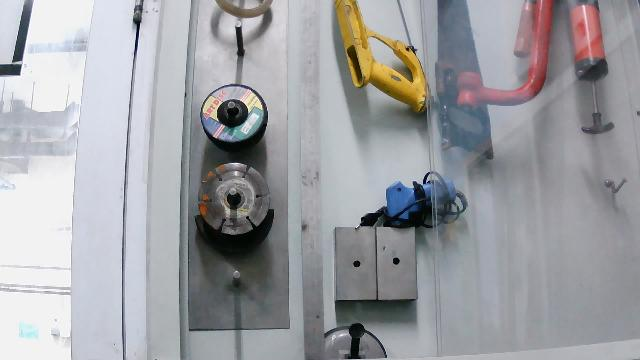solder_electrical: (351, 170, 471, 232)
